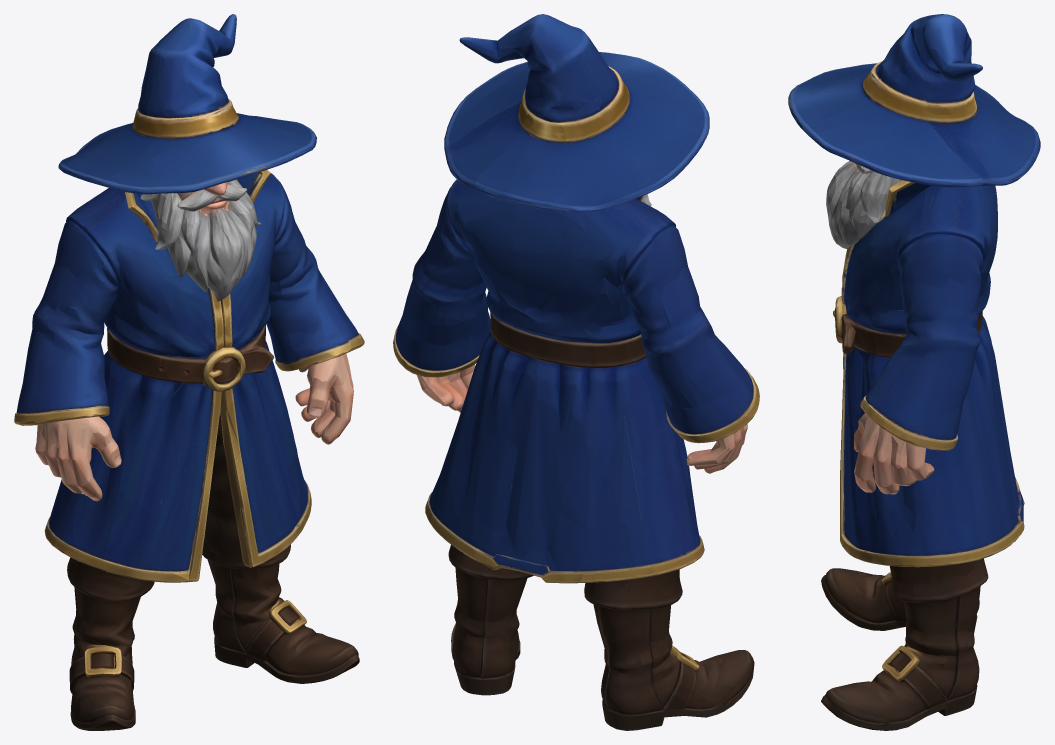
File: Wizard_model.glb
3 views of the same model, side by side, from view 1: azimuth 30°, elevation 25°; view 2: azimuth 150°, elevation 25°; view 3: azimuth 270°, elevation 25° (orthographic). The views are drawn at different scales.
Bounding box in the file's own units: 1.04 × 1.9 × 0.6575.
Materials: 1 (1 with a texture image).
